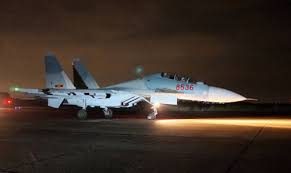maybay_muctieu: (15, 49, 256, 122)
